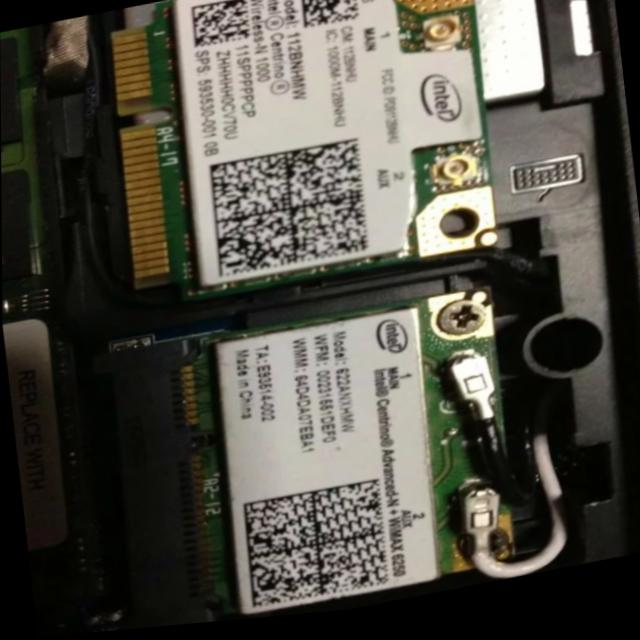datamatrix: (207, 144, 371, 284), (238, 484, 391, 617), (189, 1, 252, 54), (299, 1, 361, 37)
